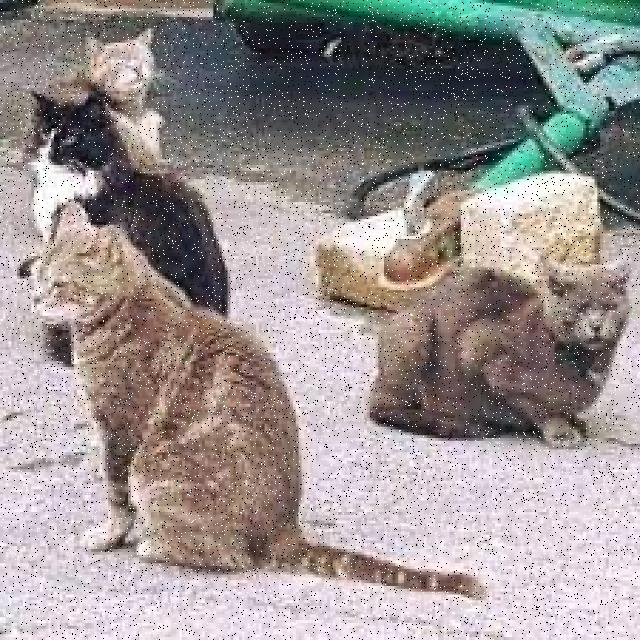cat: (31, 202, 482, 597), (374, 265, 628, 448), (32, 90, 228, 313), (88, 29, 155, 116)
